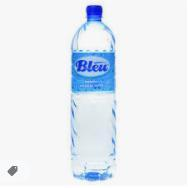bottle: (66, 2, 118, 184)
